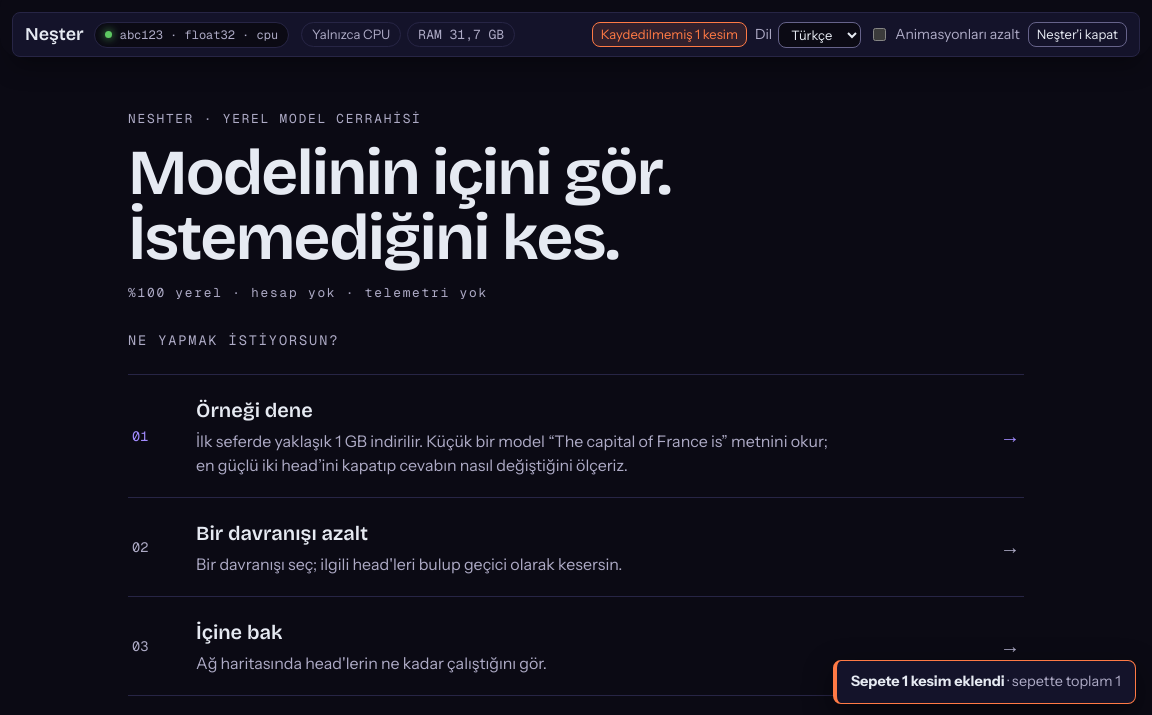
it: Kapat with unsaved cuts asks first; Kaydetmeden çık then shuts down
This screenshot has width=1152, height=715.
Check: the heading "Ne yapmak istiyorsun?" is shown, box [128, 331, 339, 349]
Click the button "Neşter'i kapat". click: (1077, 35)
box: [1028, 22, 1127, 47]
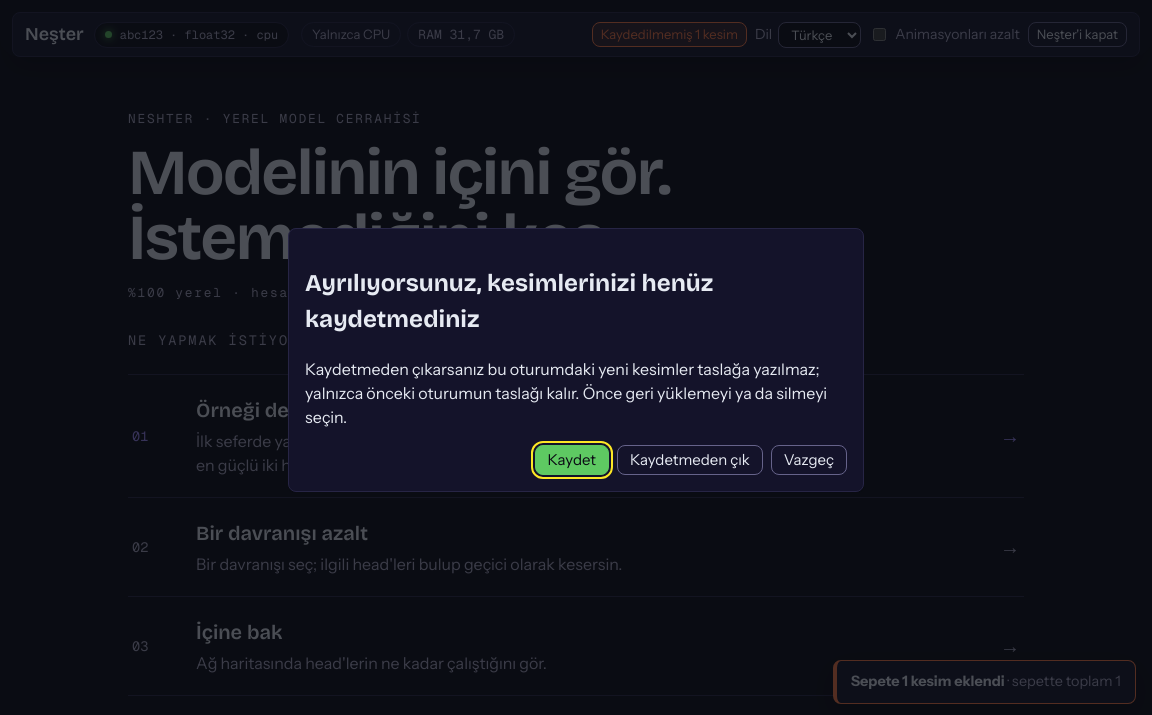
Check: the dialog "Ayrılıyorsunuz, kesimlerinizi henüz kaydetmediniz" is shown, box [288, 228, 864, 492]
Click the button "Kaydetmeden çık". click: (690, 460)
box: [617, 444, 763, 475]
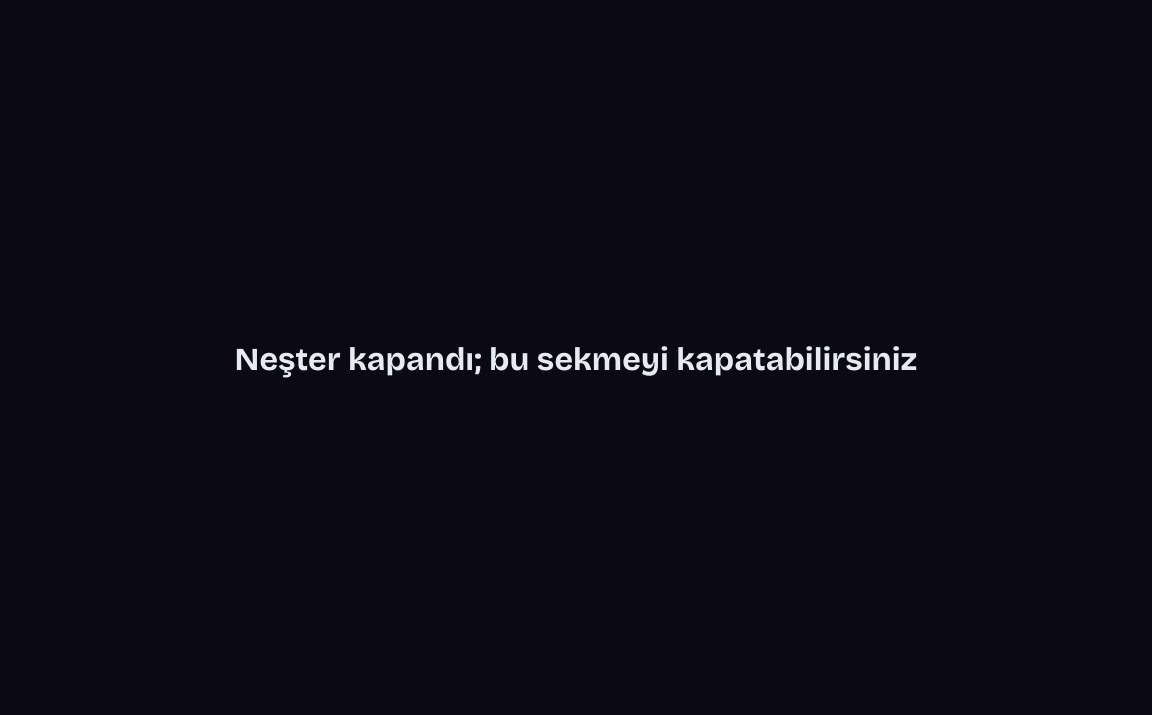
Check: the heading "Neşter kapandı; bu sekmeyi kapatabilirsiniz" is shown, box [235, 336, 917, 384]
